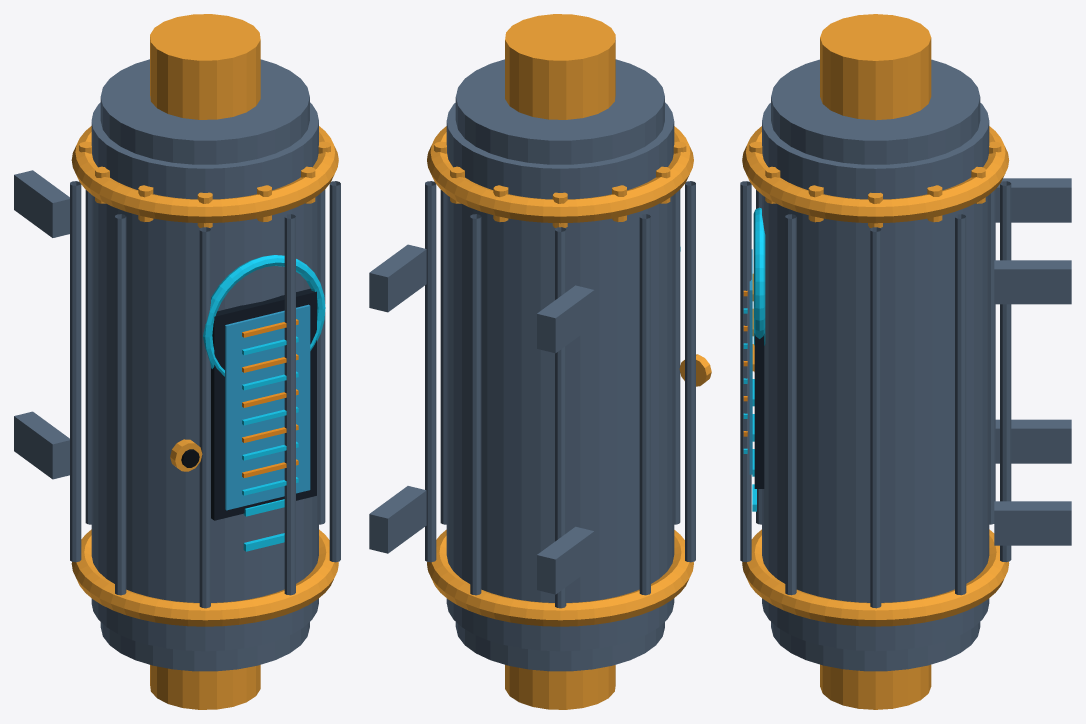
The model's file is 41_L88_OxygenEmergencyBackupReserve.fbx.
3 views of the same model, side by side, from view 1: azimuth 30°, elevation 25°; view 2: azimuth 150°, elevation 25°; view 3: azimuth 270°, elevation 25° (orthographic).
Parts seen in each view (by area): view 1: L87_OxygenEmergencyBackupReserve_Part_0000, L87_OxygenEmergencyBackupReserve_Part_0001, L87_OxygenEmergencyBackupReserve_Part_0003, L87_OxygenEmergencyBackupReserve_Part_0002, L87_OxygenEmergencyBackupReserve_Part_0004, L87_OxygenEmergencyBackupReserve_Part_0005, L87_OxygenEmergencyBackupReserve_Part_0006, L87_OxygenEmergencyBackupReserve_Part_0007; view 2: L87_OxygenEmergencyBackupReserve_Part_0000, L87_OxygenEmergencyBackupReserve_Part_0001; view 3: L87_OxygenEmergencyBackupReserve_Part_0000, L87_OxygenEmergencyBackupReserve_Part_0001, L87_OxygenEmergencyBackupReserve_Part_0004, L87_OxygenEmergencyBackupReserve_Part_0002, L87_OxygenEmergencyBackupReserve_Part_0003.
Part boxes in pixels (box(x1,y1,x2,y2)): L87_OxygenEmergencyBackupReserve_Part_0000: box(14, 59, 340, 671); L87_OxygenEmergencyBackupReserve_Part_0001: box(71, 14, 338, 709); L87_OxygenEmergencyBackupReserve_Part_0003: box(225, 304, 310, 510); L87_OxygenEmergencyBackupReserve_Part_0002: box(211, 288, 316, 520); L87_OxygenEmergencyBackupReserve_Part_0004: box(203, 255, 325, 495); L87_OxygenEmergencyBackupReserve_Part_0005: box(242, 319, 298, 477); L87_OxygenEmergencyBackupReserve_Part_0006: box(243, 499, 284, 551); L87_OxygenEmergencyBackupReserve_Part_0007: box(170, 439, 202, 471); L87_OxygenEmergencyBackupReserve_Part_0000: box(369, 59, 695, 671); L87_OxygenEmergencyBackupReserve_Part_0001: box(427, 14, 693, 709); L87_OxygenEmergencyBackupReserve_Part_0000: box(740, 59, 1071, 671); L87_OxygenEmergencyBackupReserve_Part_0001: box(742, 14, 1009, 709); L87_OxygenEmergencyBackupReserve_Part_0004: box(743, 207, 765, 453); L87_OxygenEmergencyBackupReserve_Part_0002: box(754, 333, 764, 488); L87_OxygenEmergencyBackupReserve_Part_0003: box(749, 249, 752, 474).
Bounding box in the file's own units: 112 × 296 × 137.
